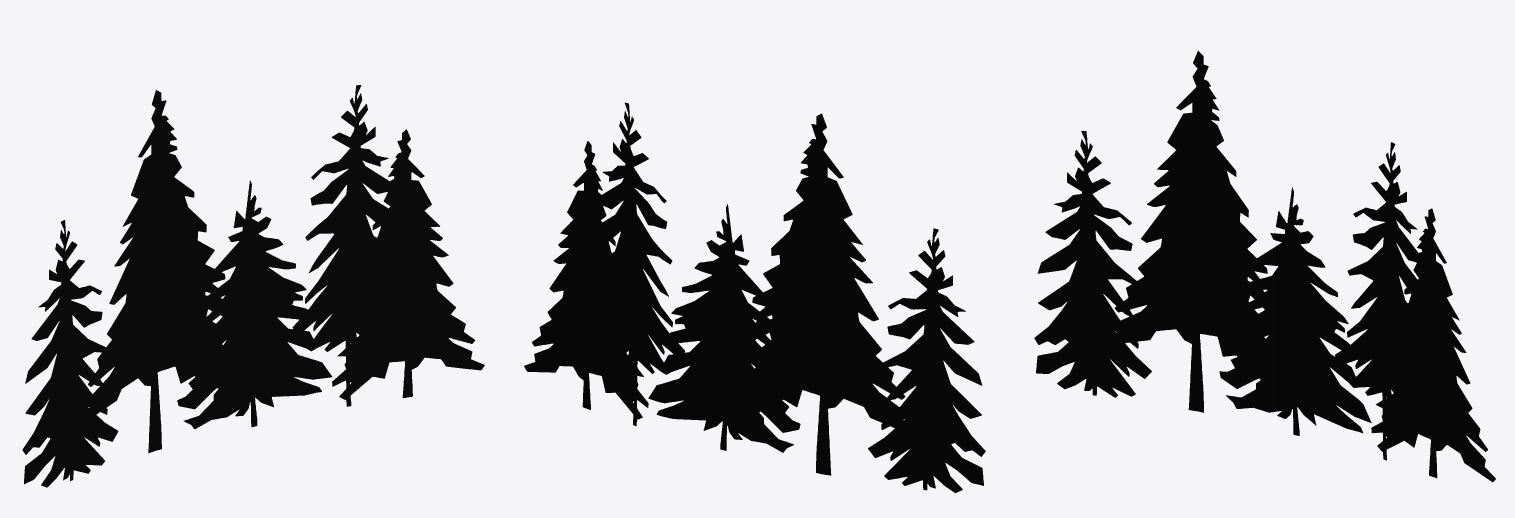
Rendered from SM_Env_Background_Card_02.fbx.
3 views of the same model, side by side, from view 1: azimuth 30°, elevation 25°; view 2: azimuth 150°, elevation 25°; view 3: azimuth 330°, elevation 25° (orthographic).
Visible parts, largest first — view 1: SM_Env_Background_Card_02; view 2: SM_Env_Background_Card_02; view 3: SM_Env_Background_Card_02.
Boxes of the visible parts, left/top/right/bottom form: SM_Env_Background_Card_02: left=22, top=85, right=484, bottom=487; SM_Env_Background_Card_02: left=524, top=102, right=985, bottom=492; SM_Env_Background_Card_02: left=1034, top=50, right=1495, bottom=482.
Size of the model in its own units: 650 by 487 by 38.
